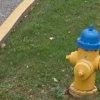Hydrant: (55, 20, 100, 100)
